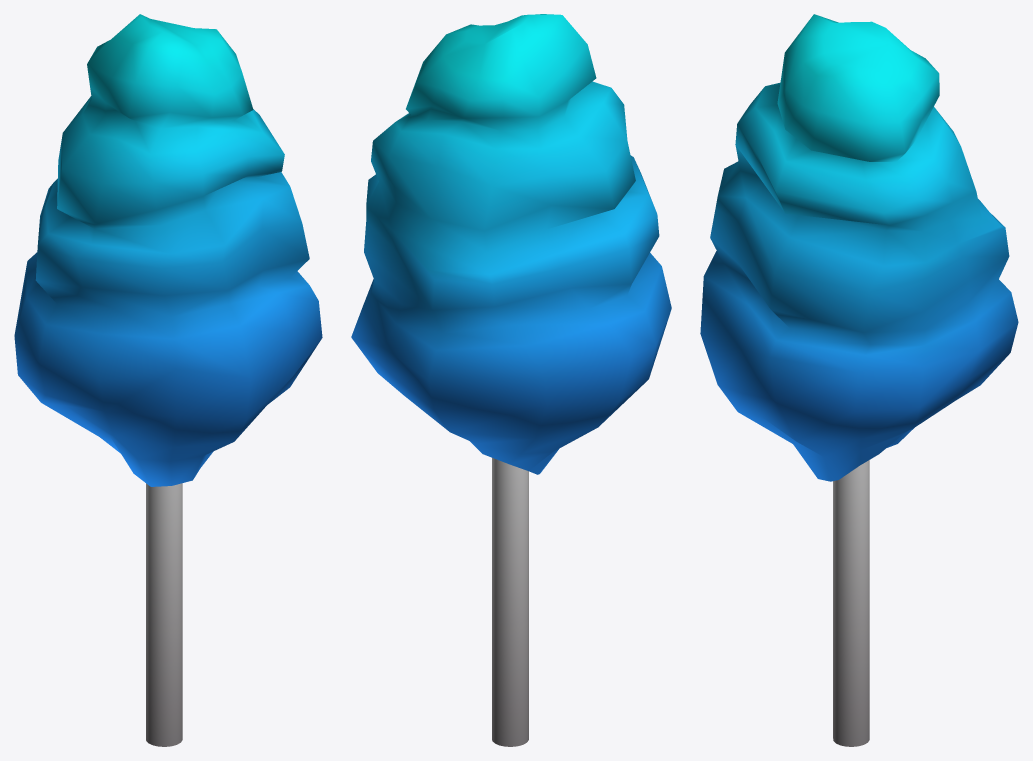
File: Cotton_Candy_Tree_02.fbx
3 views of the same model, side by side, from view 1: azimuth 30°, elevation 25°; view 2: azimuth 150°, elevation 25°; view 3: azimuth 270°, elevation 25° (orthographic).
Visible parts, largest first — view 1: Cotton_Candy_Tree_02; view 2: Cotton_Candy_Tree_02; view 3: Cotton_Candy_Tree_02.
Part boxes in pixels (x1,y1,x2,y2): Cotton_Candy_Tree_02: (14, 14, 322, 746); Cotton_Candy_Tree_02: (351, 14, 671, 746); Cotton_Candy_Tree_02: (700, 14, 1018, 746).
Bounding box in the file's own units: 242 × 619 × 251.
